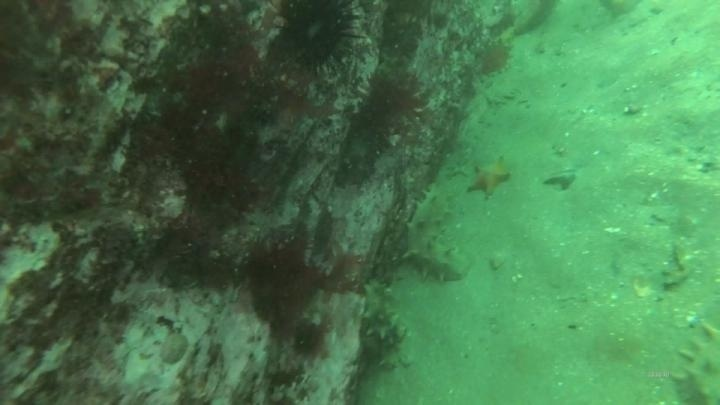echinus: (267, 1, 363, 77)
holothurian: (401, 180, 470, 285), (357, 275, 414, 374), (669, 316, 720, 405)
starfish: (464, 153, 515, 200)
